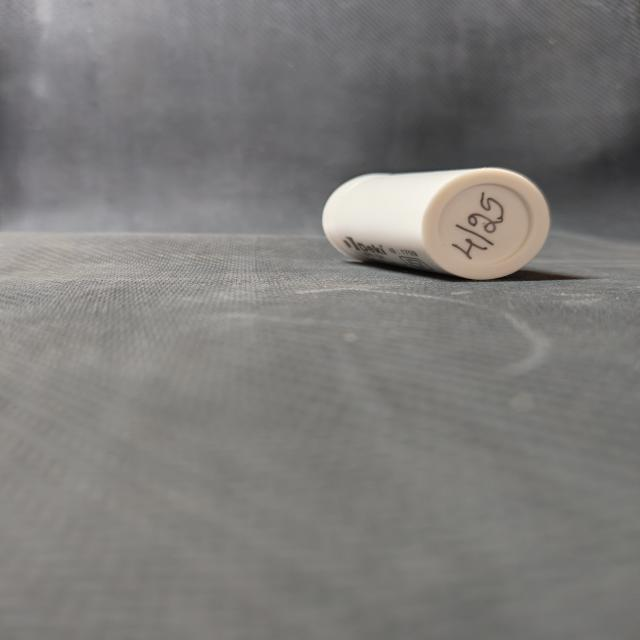capacitor: (312, 161, 566, 291)
